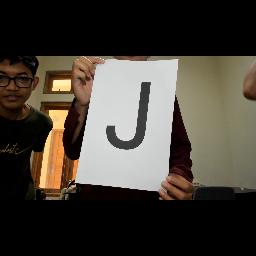j: (98, 76, 152, 162)
